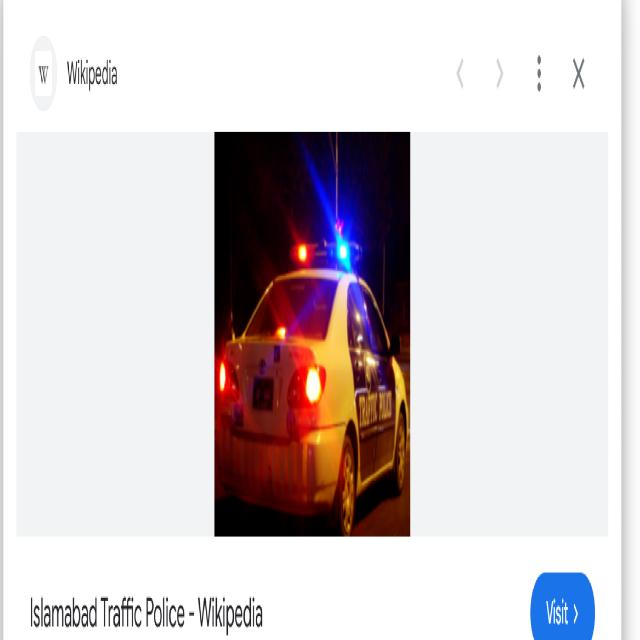police: (216, 240, 414, 532)
